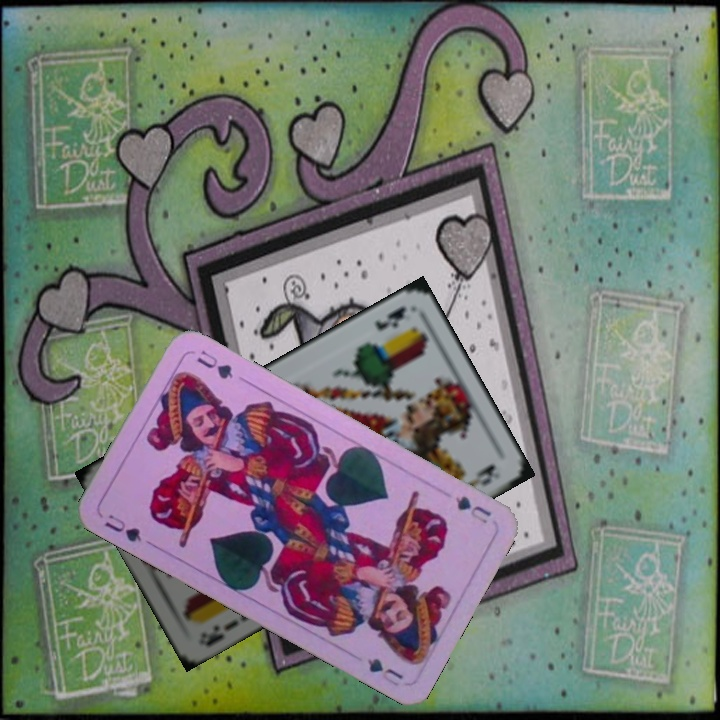EK: (196, 616, 241, 649), (371, 302, 408, 333)
GU: (449, 491, 494, 526), (101, 510, 145, 545)
